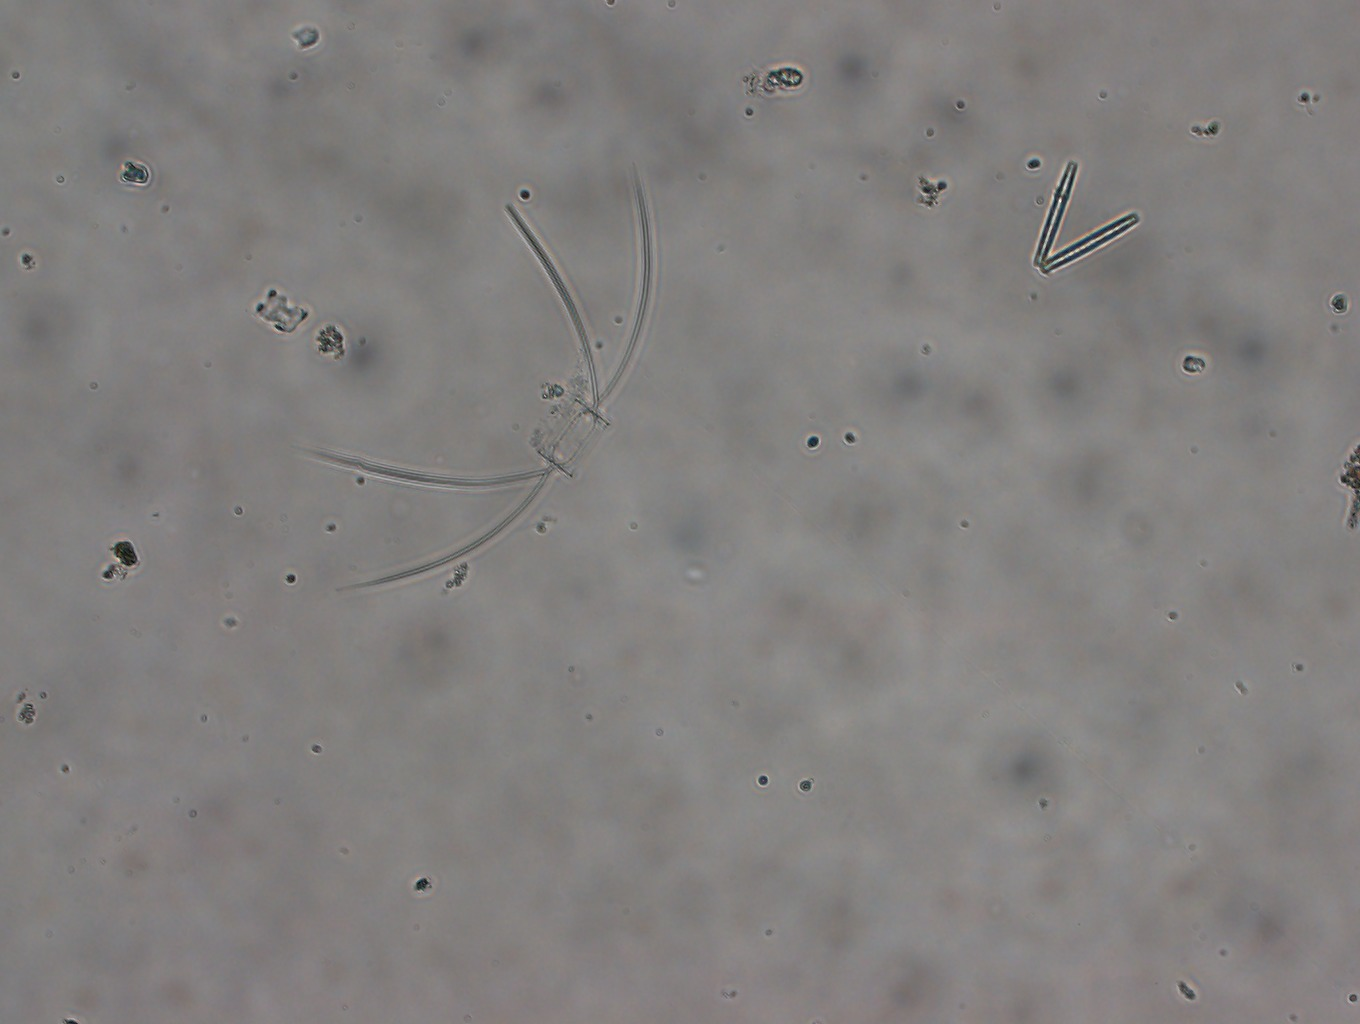chaetoceros: (303, 162, 667, 598)
thalassionema nitzschioides: (1028, 151, 1142, 276)
